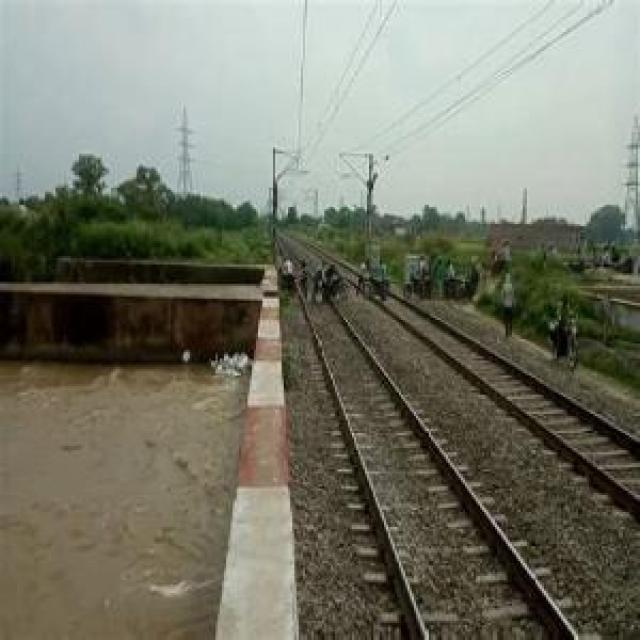danger: (312, 262, 326, 301), (432, 252, 443, 301), (378, 258, 390, 299), (284, 257, 296, 296), (418, 254, 427, 299), (357, 257, 366, 296), (446, 258, 454, 299), (276, 248, 283, 292), (301, 260, 307, 299)
